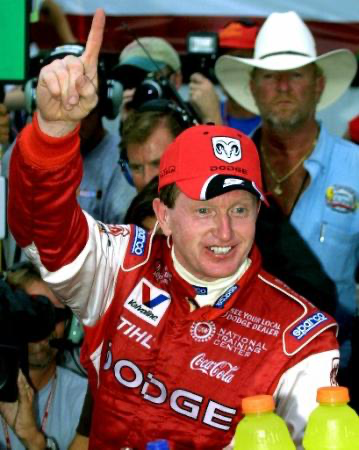Face: (174, 185, 259, 284), (249, 59, 319, 134), (123, 132, 177, 191)
